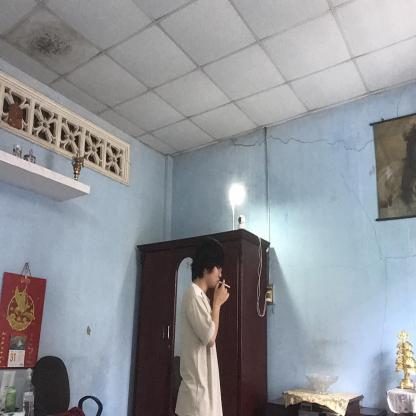cigarette: (224, 283, 232, 289)
person: (174, 246, 232, 415)
